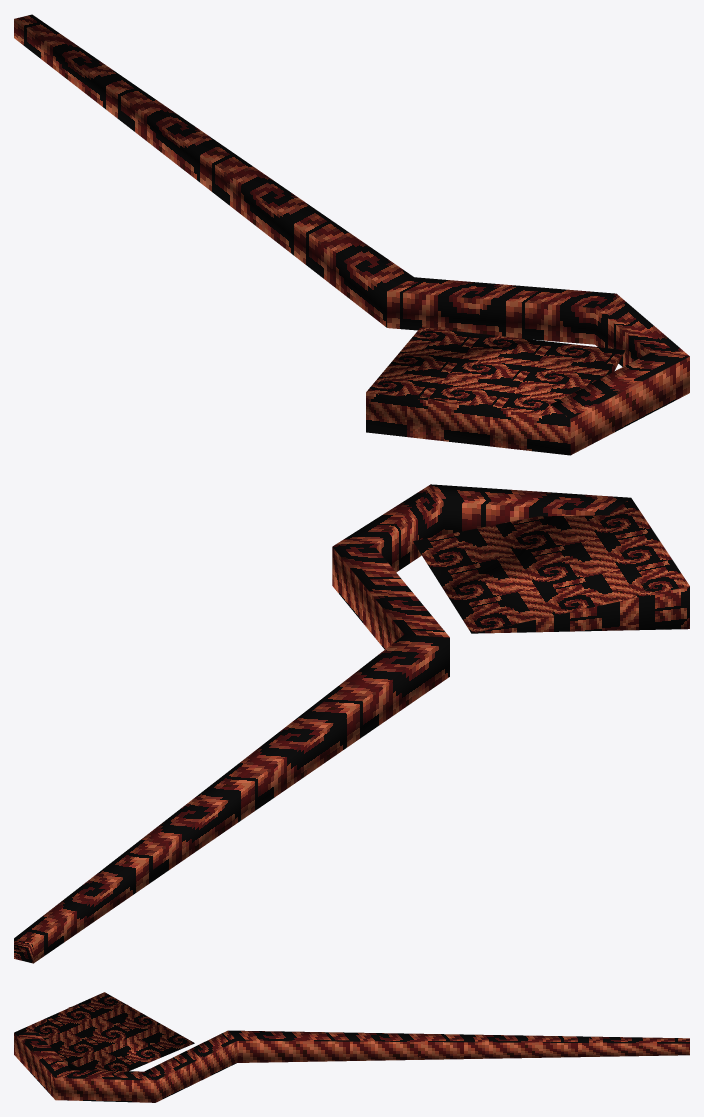
File: 0730sbim02_08.gltf
The picture shows the model from 3 angles, top to bottom: view 1: azimuth 30°, elevation 25°; view 2: azimuth 150°, elevation 25°; view 3: azimuth 270°, elevation 25°; orthographic projection. The views are drawn at different scales.
Parts seen in each view (by area): view 1: 0730sbim02_08; view 2: 0730sbim02_08; view 3: 0730sbim02_08.
Boxes of the visible parts, x1=… form: 0730sbim02_08: x1=14, y1=14, x2=689, y2=455; 0730sbim02_08: x1=14, y1=484, x2=689, y2=963; 0730sbim02_08: x1=14, y1=992, x2=689, y2=1102.
Size of the model in its own units: 0.3516 by 0.0461 by 1.16.
1 material, 1 textured.
